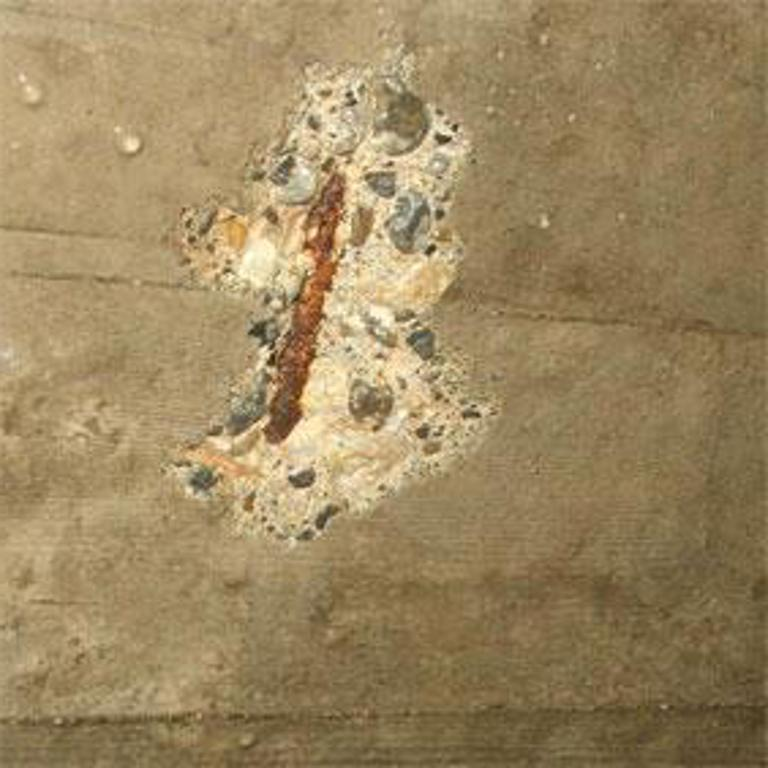damage: (164, 42, 501, 542)
